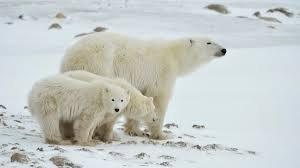bear: (60, 31, 226, 140), (61, 69, 161, 144), (28, 76, 130, 144)
